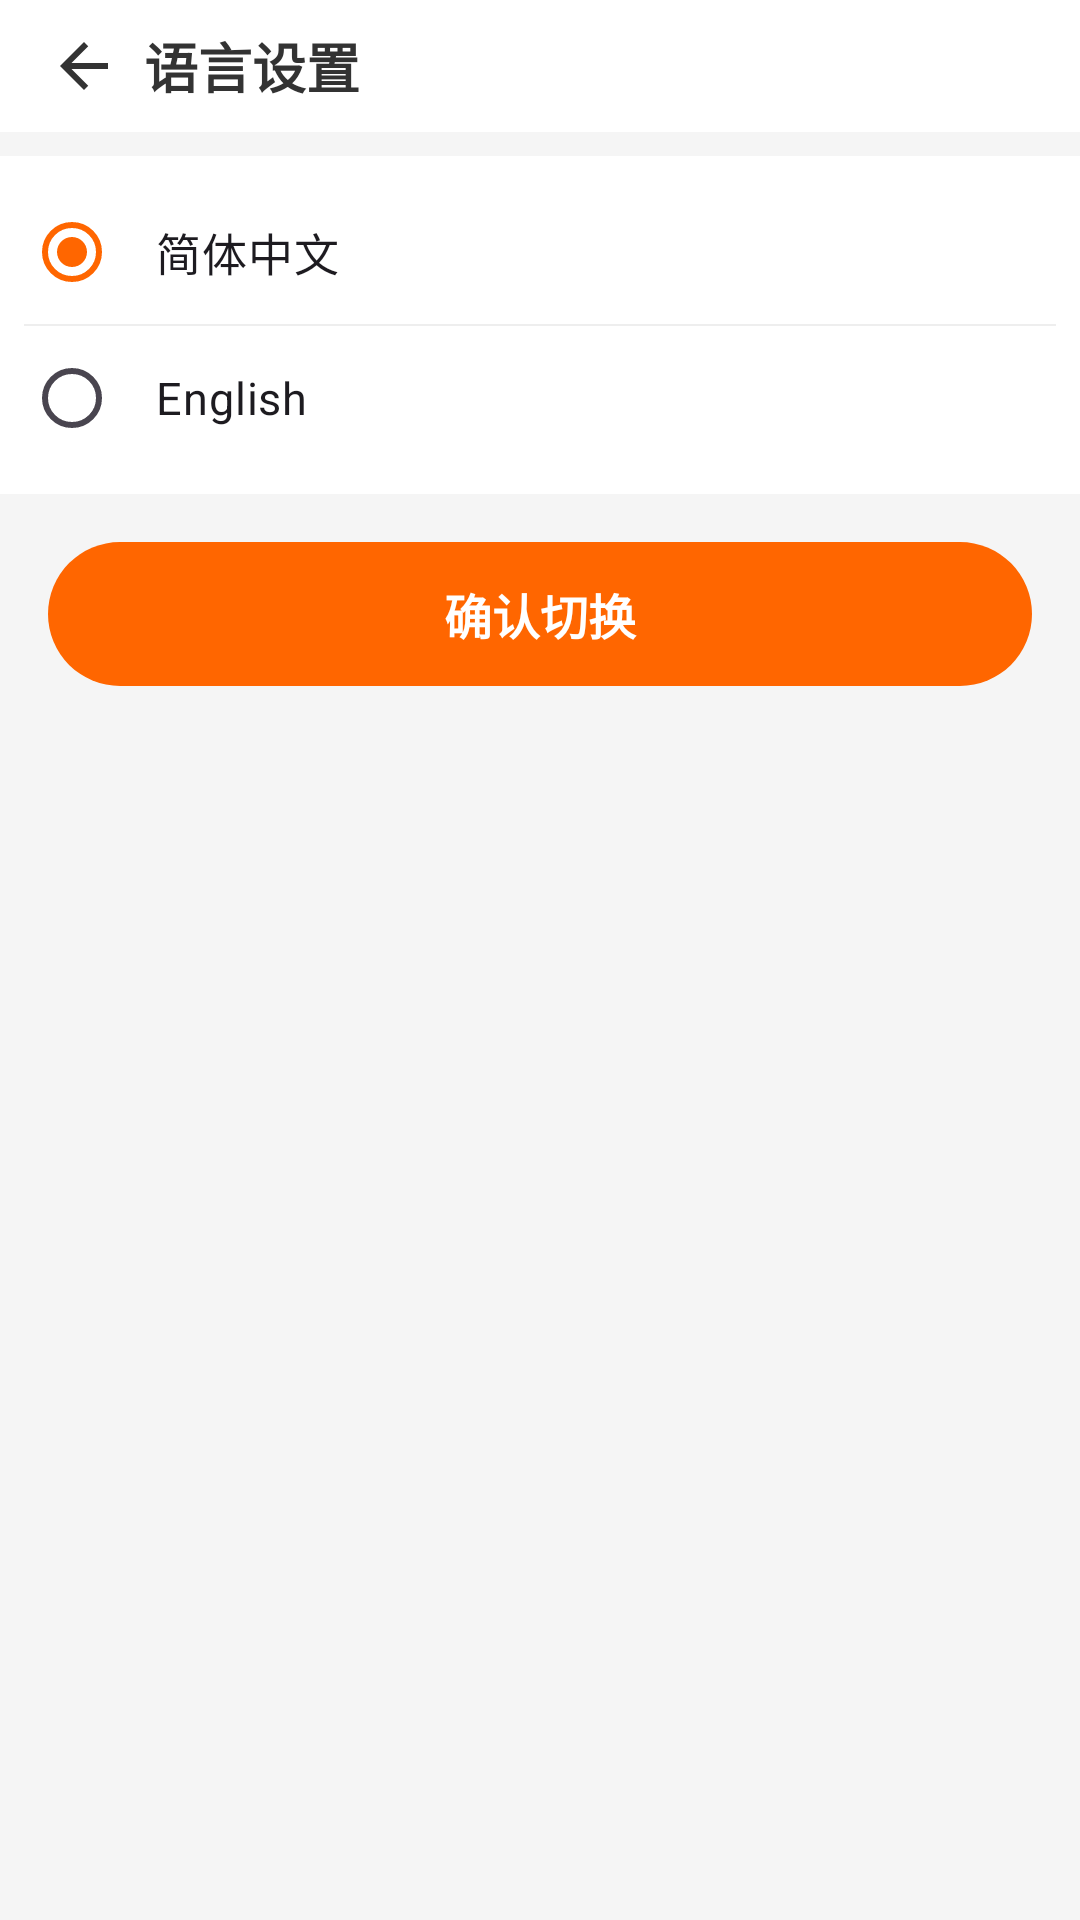

Locate icon controls on the screen. Image size 1080px x 1920px, boxes as box(x1, y1, x2, y2).
arrow back: box(60, 42, 108, 90)
